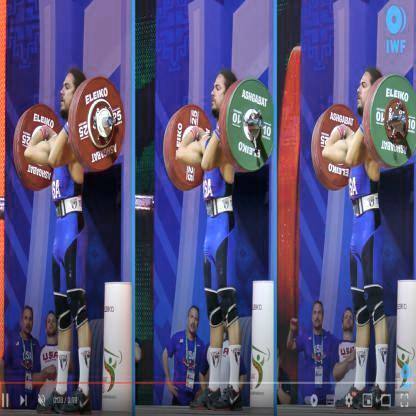Barbell: (105, 115, 115, 128), (257, 117, 265, 132), (400, 112, 407, 128)
